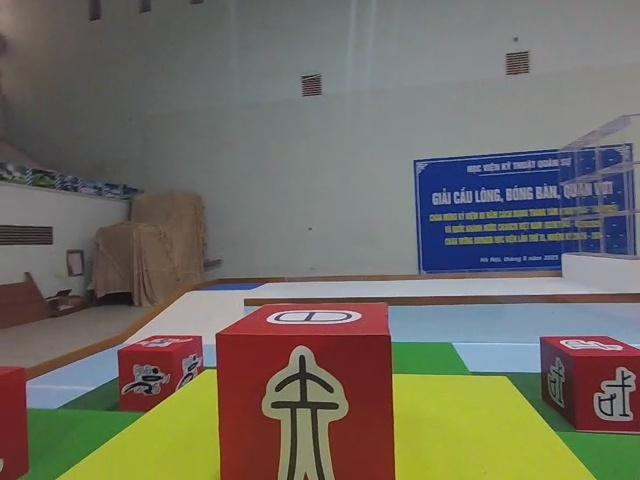R1: (115, 332, 206, 412)
R2 Fake: (214, 299, 398, 480)
R2 Real: (538, 333, 640, 433)
